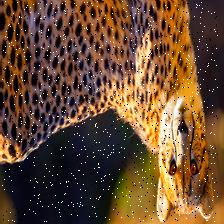Cheetha: (1, 0, 218, 222)
